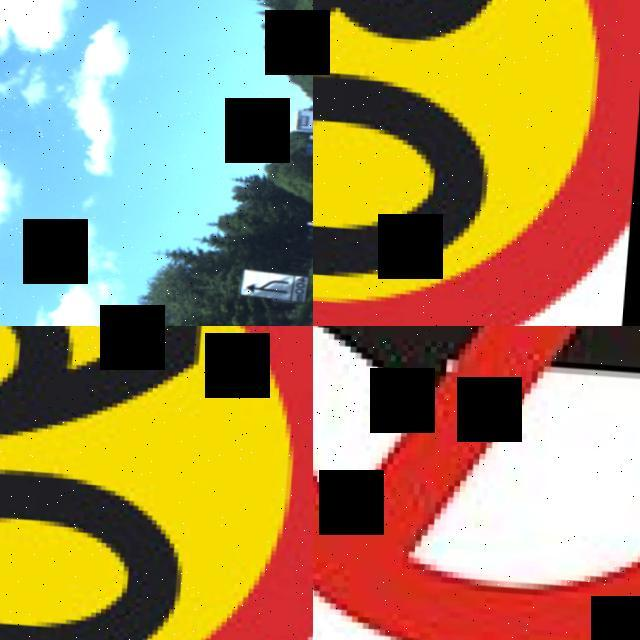71: (240, 262, 300, 300)
No entry: (313, 326, 640, 640)
speed limit-30: (313, 0, 640, 326)
speed limit-90: (0, 326, 313, 640)
